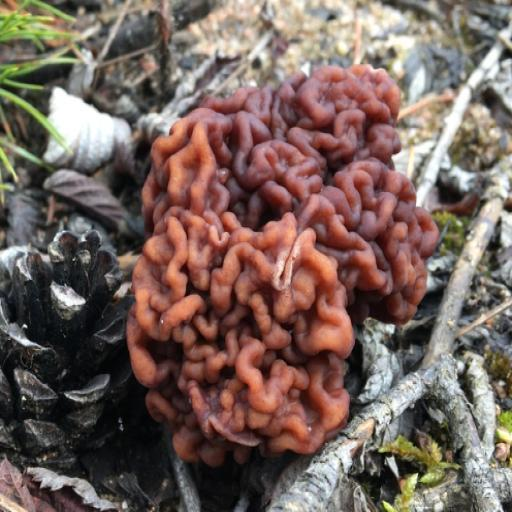mushroom: (77, 60, 473, 480)
